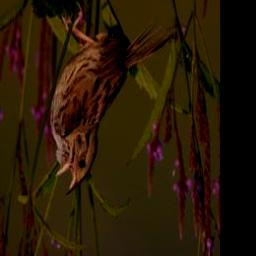Sparrow: (49, 0, 182, 198)
